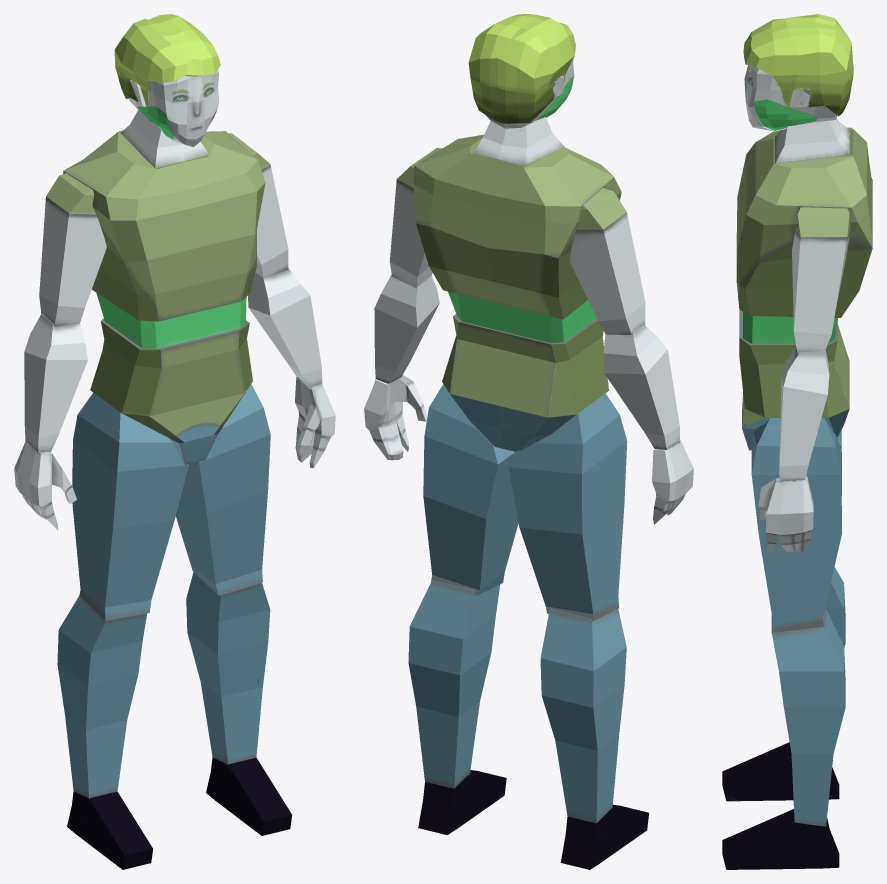
Rendered from vitraniablud1.glb.
3 renders of one model, left to right at view 1: azimuth 30°, elevation 25°; view 2: azimuth 150°, elevation 25°; view 3: azimuth 270°, elevation 25°, orthographic. The views are drawn at different scales.
Parts seen in each view (by area): view 1: blud; view 2: blud; view 3: blud.
Boxes of the visible parts, <box> form: blud: <box>14,14,335,869</box>; blud: <box>364,14,693,869</box>; blud: <box>722,14,872,869</box>.
Size of the model in its own units: 0.7326 by 1.85 by 0.3123.
Materials: 2 (2 with a texture image).
